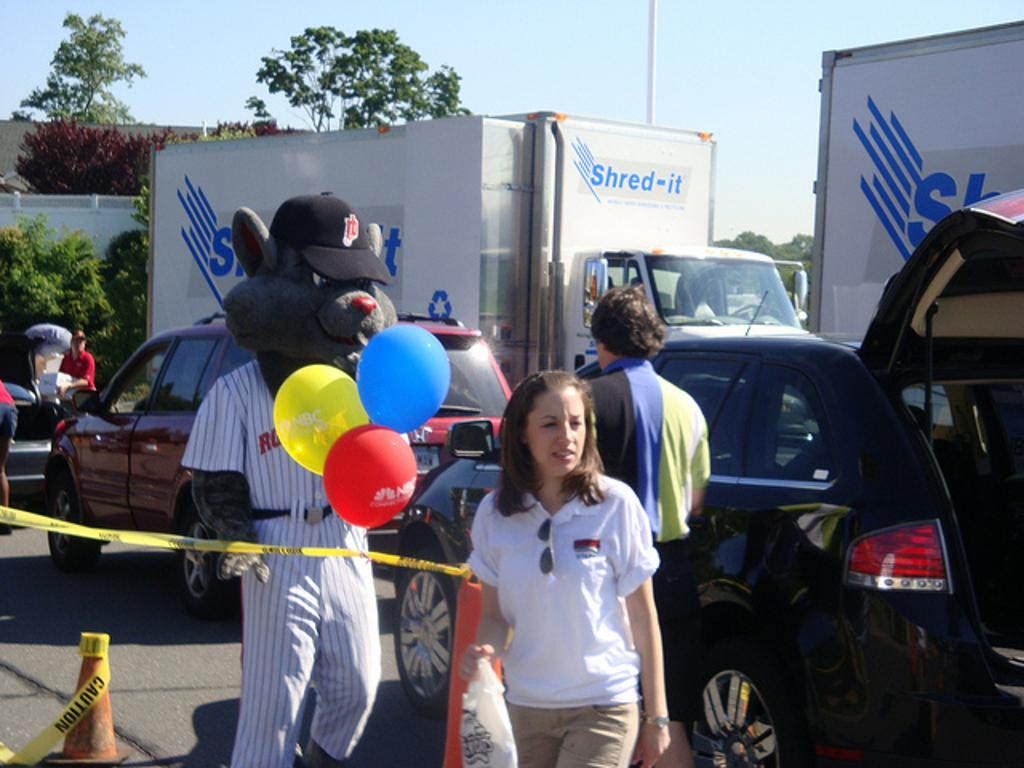face: (528, 388, 584, 472)
